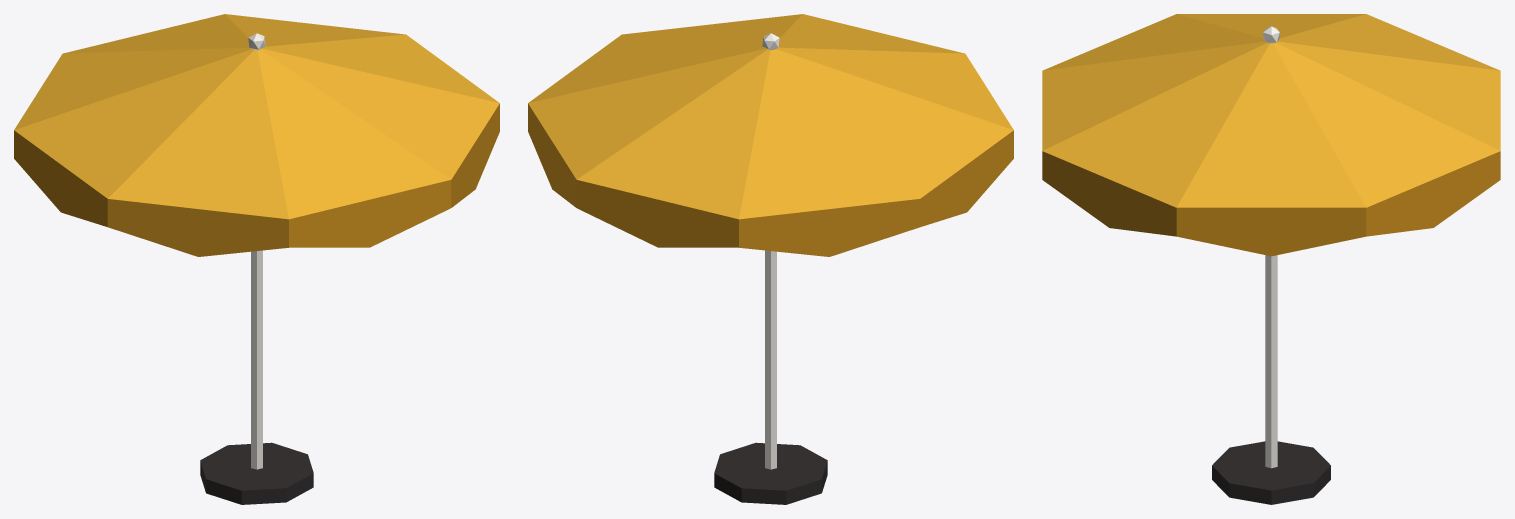
Rendered from umbrella_yellow.glb.
The picture shows the model from 3 angles, left to right: view 1: azimuth 30°, elevation 25°; view 2: azimuth 150°, elevation 25°; view 3: azimuth 270°, elevation 25°; orthographic projection.
Parts seen in each view (by area): view 1: body; view 2: body; view 3: body.
Boxes of the visible parts, box(x1,y1,x2,y2) form: body: box(14, 14, 499, 504); body: box(528, 14, 1013, 504); body: box(1042, 14, 1500, 504).
Size of the model in its own units: 2.31 by 2.52 by 2.31.
